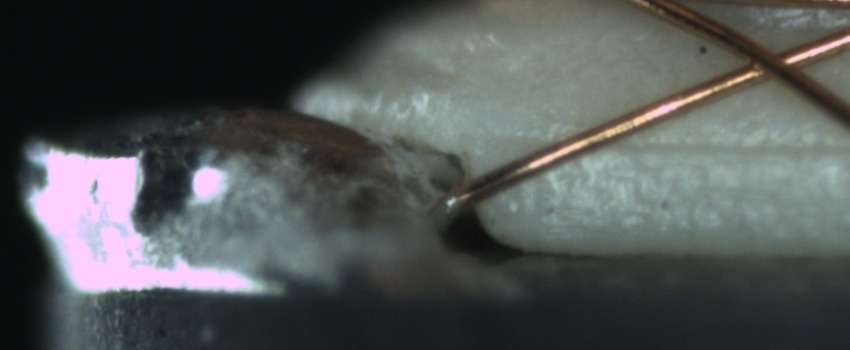CL: (721, 32, 819, 90)
DL: (520, 119, 850, 176)
